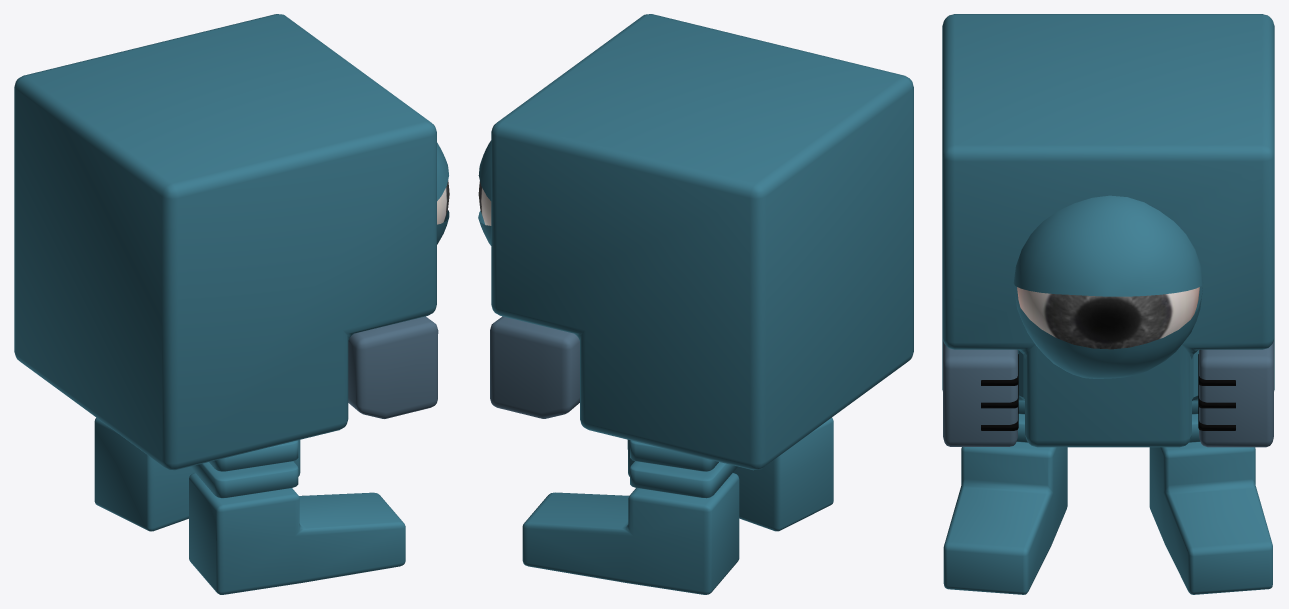
Rendered from PrismLad.glb.
3 views of the same model, side by side, from view 1: azimuth 30°, elevation 25°; view 2: azimuth 150°, elevation 25°; view 3: azimuth 270°, elevation 25° (orthographic). The views are drawn at different scales.
Parts seen in each view (by area): view 1: Cube, Foot, Fist, Cube.004, Cube.005; view 2: Cube, Foot, Fist, Cube.004, Cube.005; view 3: Cube, Foot, Sphere.001, Fist, Sphere, Sphere.002, Cube.002.
Part boxes in pixels (x1,y1,x2,y2): Cube: (14, 14, 436, 470); Foot: (94, 417, 405, 594); Fist: (348, 316, 438, 418); Cube.004: (190, 461, 298, 498); Cube.005: (209, 440, 298, 471); Cube: (491, 14, 913, 470); Foot: (522, 417, 833, 594); Fist: (490, 316, 579, 418); Cube.004: (630, 461, 737, 498); Cube.005: (630, 440, 718, 471); Cube: (942, 14, 1274, 447); Foot: (943, 442, 1272, 594); Sphere.001: (1013, 195, 1203, 296); Fist: (943, 340, 1273, 447); Sphere: (1017, 287, 1199, 349); Sphere.002: (1015, 288, 1202, 378); Cube.002: (981, 354, 1235, 430).
Size of the model in its own units: 2.55 by 3.04 by 2.
Materials: 5 (1 with a texture image).
